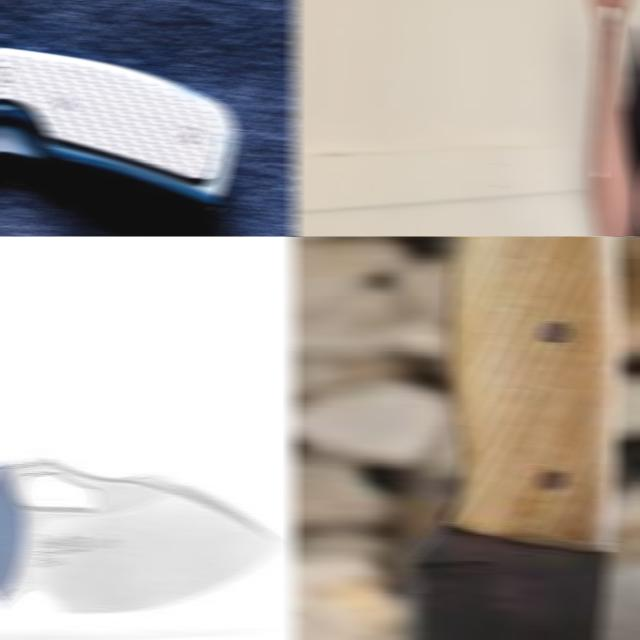Knife: (0, 460, 281, 614)
Knife_Handle: (585, 0, 636, 181)
